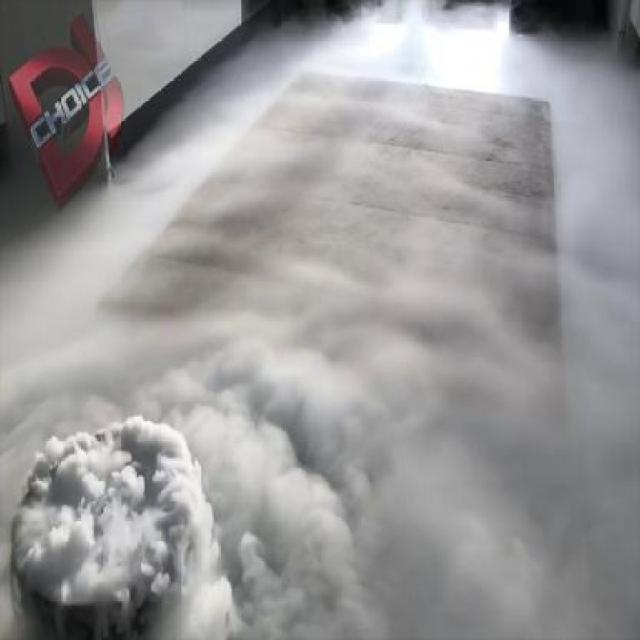smoke: (3, 277, 377, 640)
